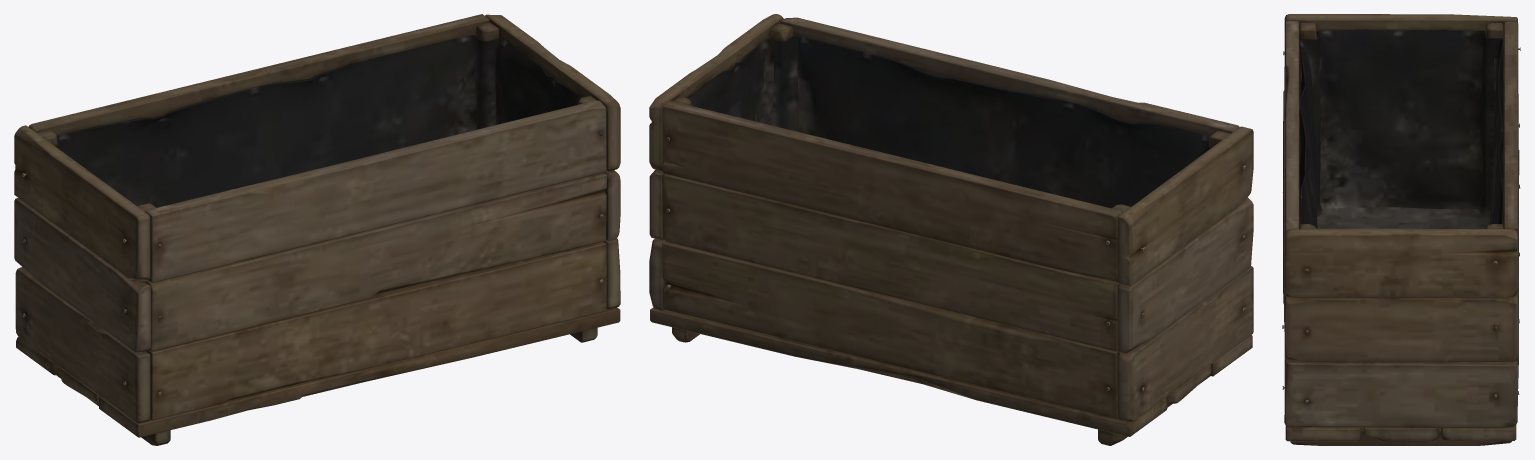
File: planter-box.glb
3 renders of one model, left to right at view 1: azimuth 30°, elevation 25°; view 2: azimuth 150°, elevation 25°; view 3: azimuth 270°, elevation 25°, orthographic. The views are drawn at different scales.
Visible parts, largest first — view 1: planter_box_01; view 2: planter_box_01; view 3: planter_box_01.
Part boxes in pixels (x1,y1,x2,y2): planter_box_01: (14, 14, 620, 445); planter_box_01: (649, 14, 1253, 445); planter_box_01: (1282, 14, 1520, 445).
Bounding box in the file's own units: 0.9126 × 0.4249 × 0.4137.
Materials: 1 (1 with a texture image).
